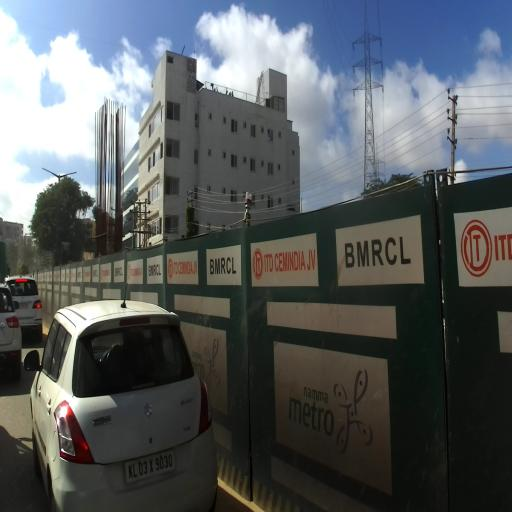street_light_0: (42, 167, 60, 181), (58, 172, 77, 180)
